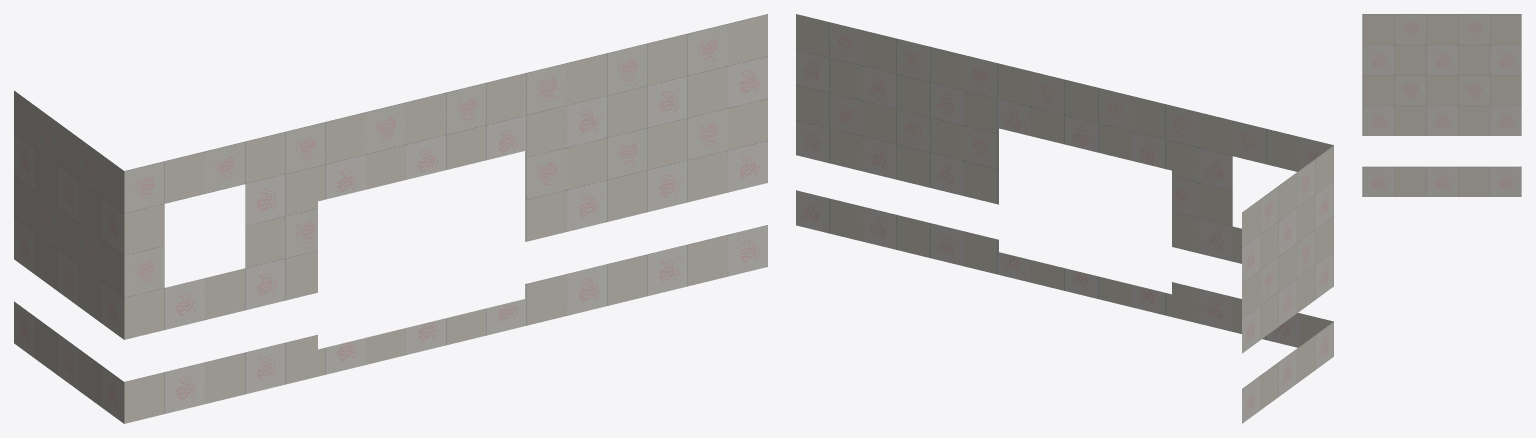
Rendered from kd_stage_135ded_4_110.glb.
3 views of the same model, side by side, from view 1: azimuth 30°, elevation 25°; view 2: azimuth 150°, elevation 25°; view 3: azimuth 270°, elevation 25° (orthographic). The views are drawn at different scales.
Visible parts, largest first — view 1: kd_stage_135ded_4_110; view 2: kd_stage_135ded_4_110; view 3: kd_stage_135ded_4_110.
Part boxes in pixels (x1,y1,x2,y2): kd_stage_135ded_4_110: [14, 14, 767, 423]; kd_stage_135ded_4_110: [796, 14, 1333, 423]; kd_stage_135ded_4_110: [1362, 14, 1521, 196].
Bounding box in the file's own units: 3.19 × 1.2 × 0.9435.
1 material, 1 textured.
